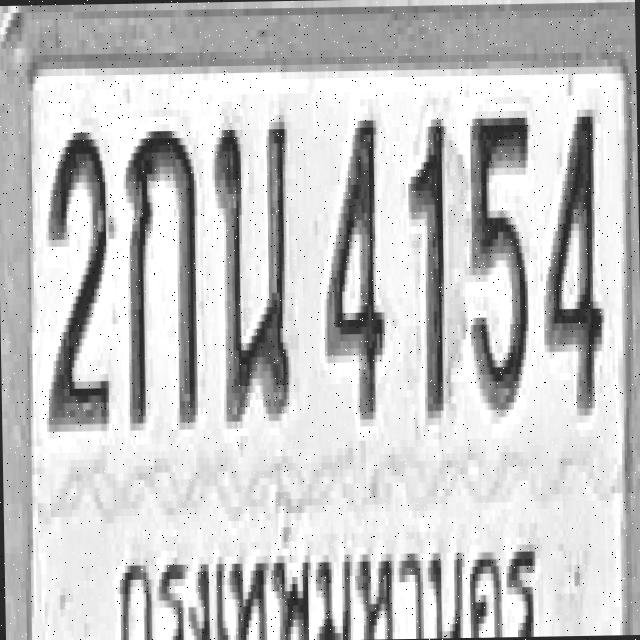1: (408, 111, 450, 418)
10GorGai: (123, 120, 199, 426)
2: (44, 124, 112, 424)
34NorNu: (214, 114, 292, 421)
4: (320, 113, 386, 420), (541, 105, 604, 412)
5: (466, 110, 532, 410)
Bangkok: (113, 536, 543, 640)
